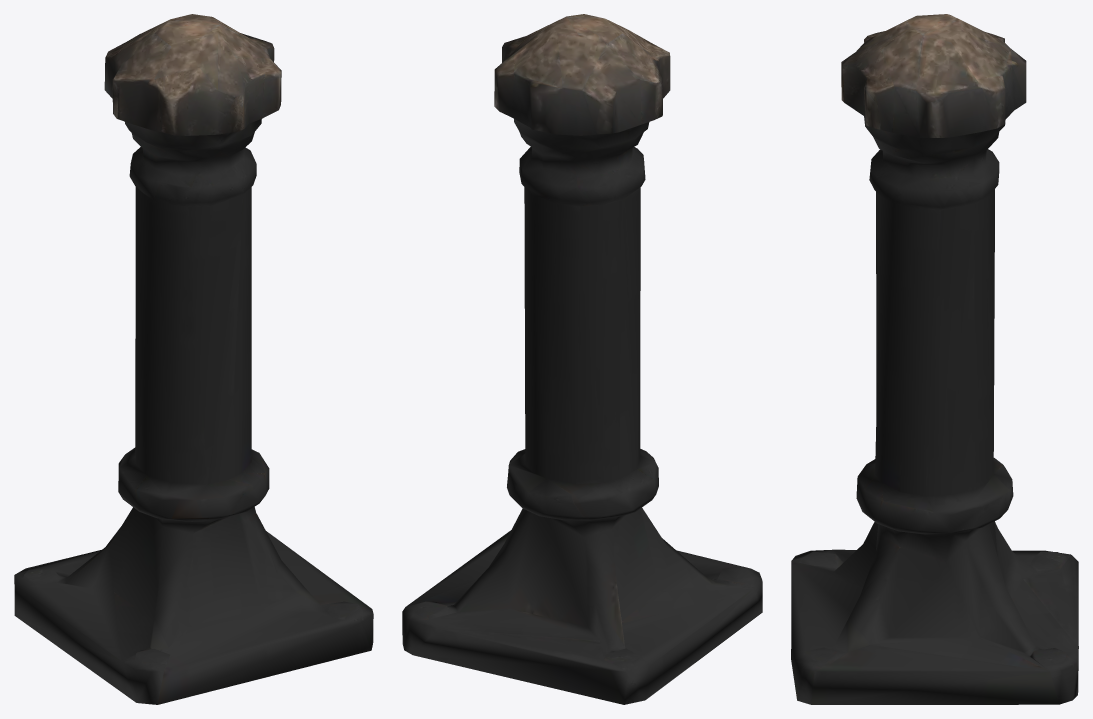
3 renders of one model, left to right at view 1: azimuth 30°, elevation 25°; view 2: azimuth 150°, elevation 25°; view 3: azimuth 270°, elevation 25°, orthographic. The views are drawn at different scales.
Bounding box in the file's own units: 0.7984 × 1.9 × 0.7982.
Materials: 1 (1 with a texture image).
